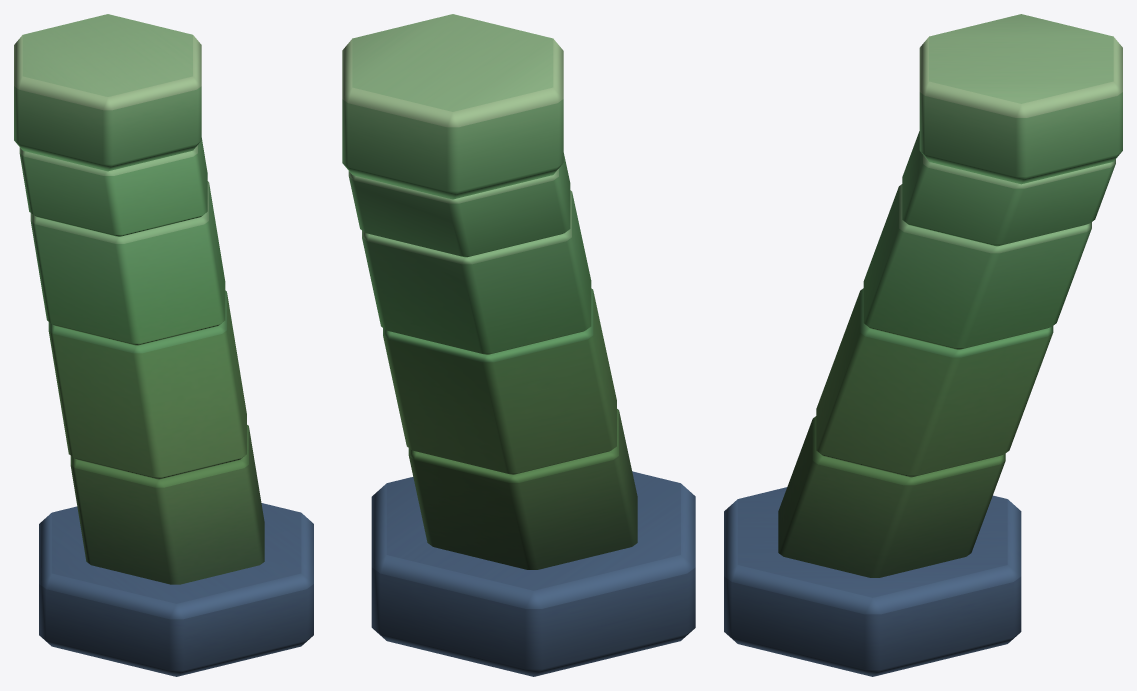
File: pillar_wall_lower.fbx
3 views of the same model, side by side, from view 1: azimuth 30°, elevation 25°; view 2: azimuth 150°, elevation 25°; view 3: azimuth 270°, elevation 25° (orthographic). The views are drawn at different scales.
Visible parts, largest first — view 1: pillar_wall_lower; view 2: pillar_wall_lower; view 3: pillar_wall_lower.
Part boxes in pixels (x1,y1,x2,y2): pillar_wall_lower: [14, 14, 313, 676]; pillar_wall_lower: [342, 14, 695, 676]; pillar_wall_lower: [724, 14, 1122, 676].
Size of the model in its own units: 225 by 410 by 268.
